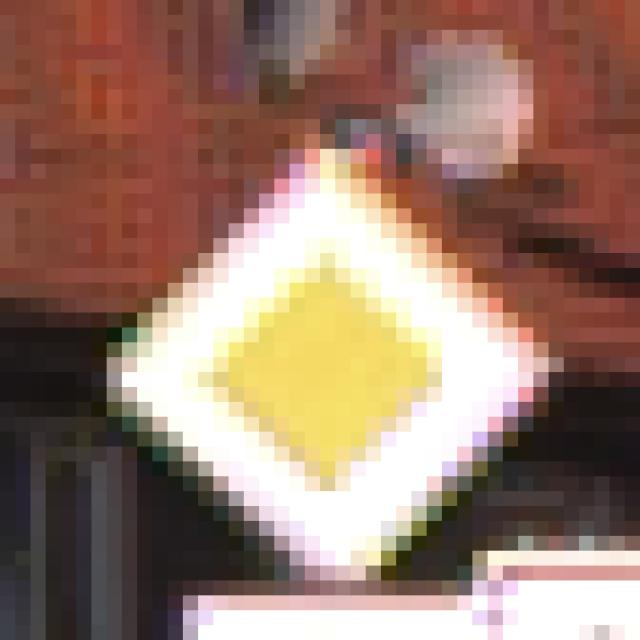Main Road: (92, 76, 565, 567)
